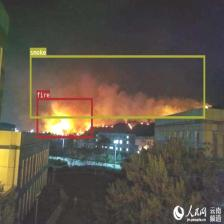fire: (36, 98, 92, 138)
smoke: (29, 55, 205, 118)
